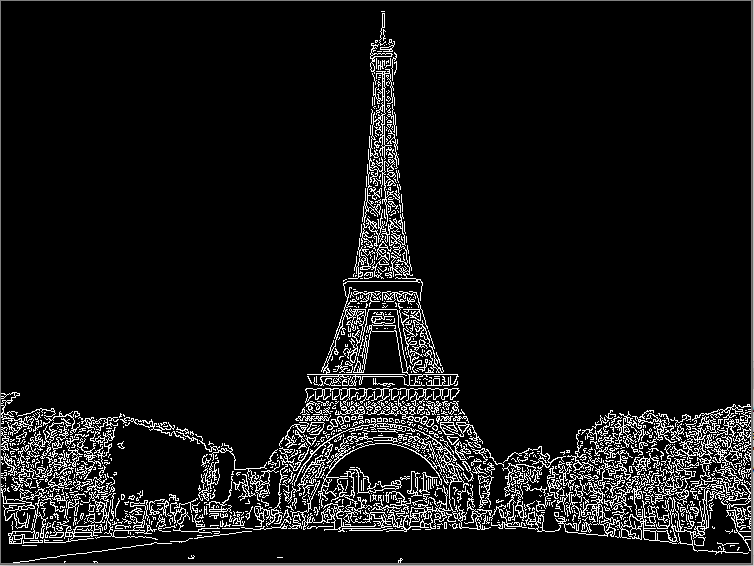eiffel tower: (263, 11, 503, 504)
